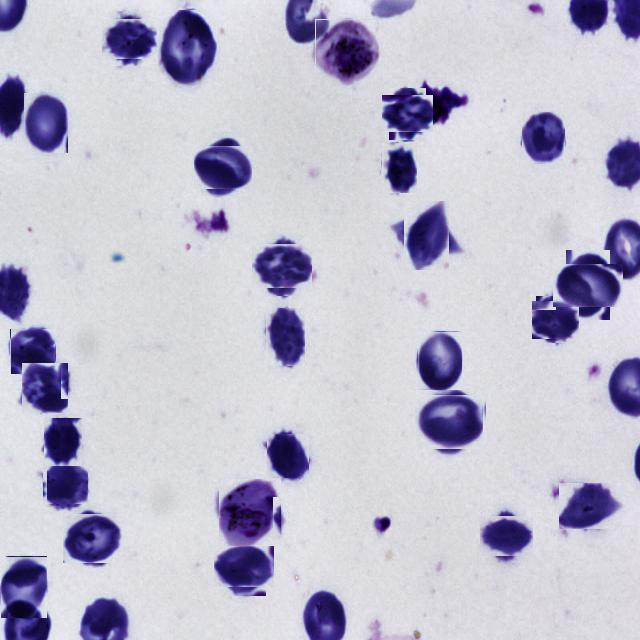difficult: (217, 480, 283, 545), (315, 19, 379, 85)
red blood cell: (158, 10, 217, 84), (419, 391, 482, 454), (398, 207, 456, 264), (560, 256, 616, 314), (66, 512, 120, 566), (0, 556, 47, 618), (559, 483, 622, 529), (23, 92, 68, 153), (218, 540, 270, 592), (256, 240, 308, 292), (417, 331, 462, 390), (198, 142, 248, 192), (265, 307, 305, 366), (482, 512, 530, 560), (21, 364, 69, 412), (105, 15, 154, 62), (522, 112, 565, 163), (11, 328, 56, 374), (386, 92, 430, 136), (44, 463, 88, 506), (534, 298, 577, 341), (267, 434, 309, 478), (381, 142, 417, 193), (44, 418, 82, 466)
